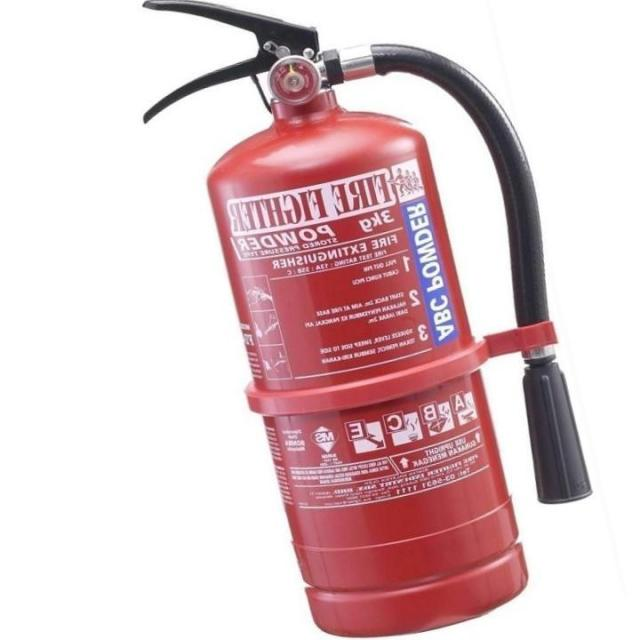fire_extinguisher: (128, 0, 599, 637)
